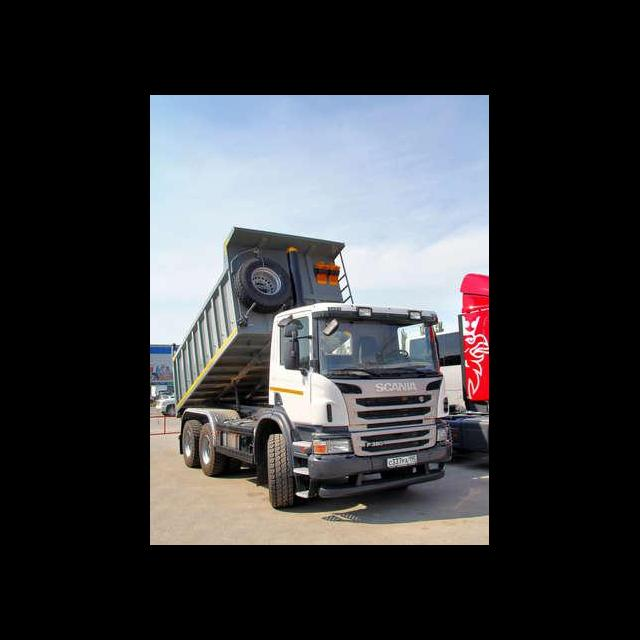dump truck: (170, 223, 460, 510)
truck: (157, 393, 177, 417)
